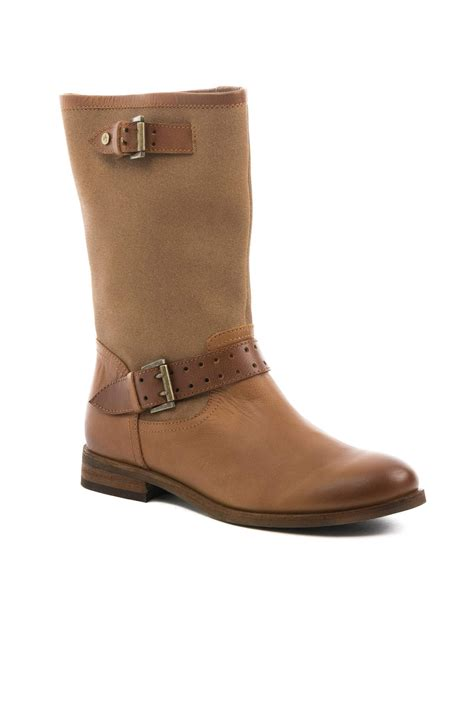cuero: (96, 329, 419, 515)
